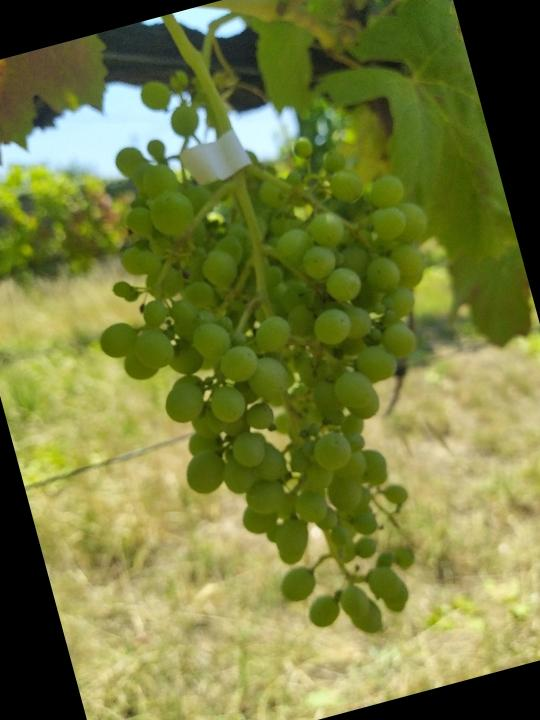grape: (51, 73, 534, 687)
